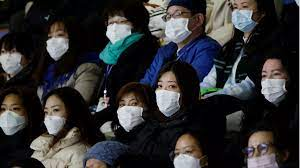with_mask: (257, 62, 285, 96), (165, 8, 194, 40), (46, 24, 70, 58), (157, 76, 180, 110), (108, 13, 133, 41), (231, 5, 256, 33), (122, 96, 145, 124), (46, 98, 64, 130)
